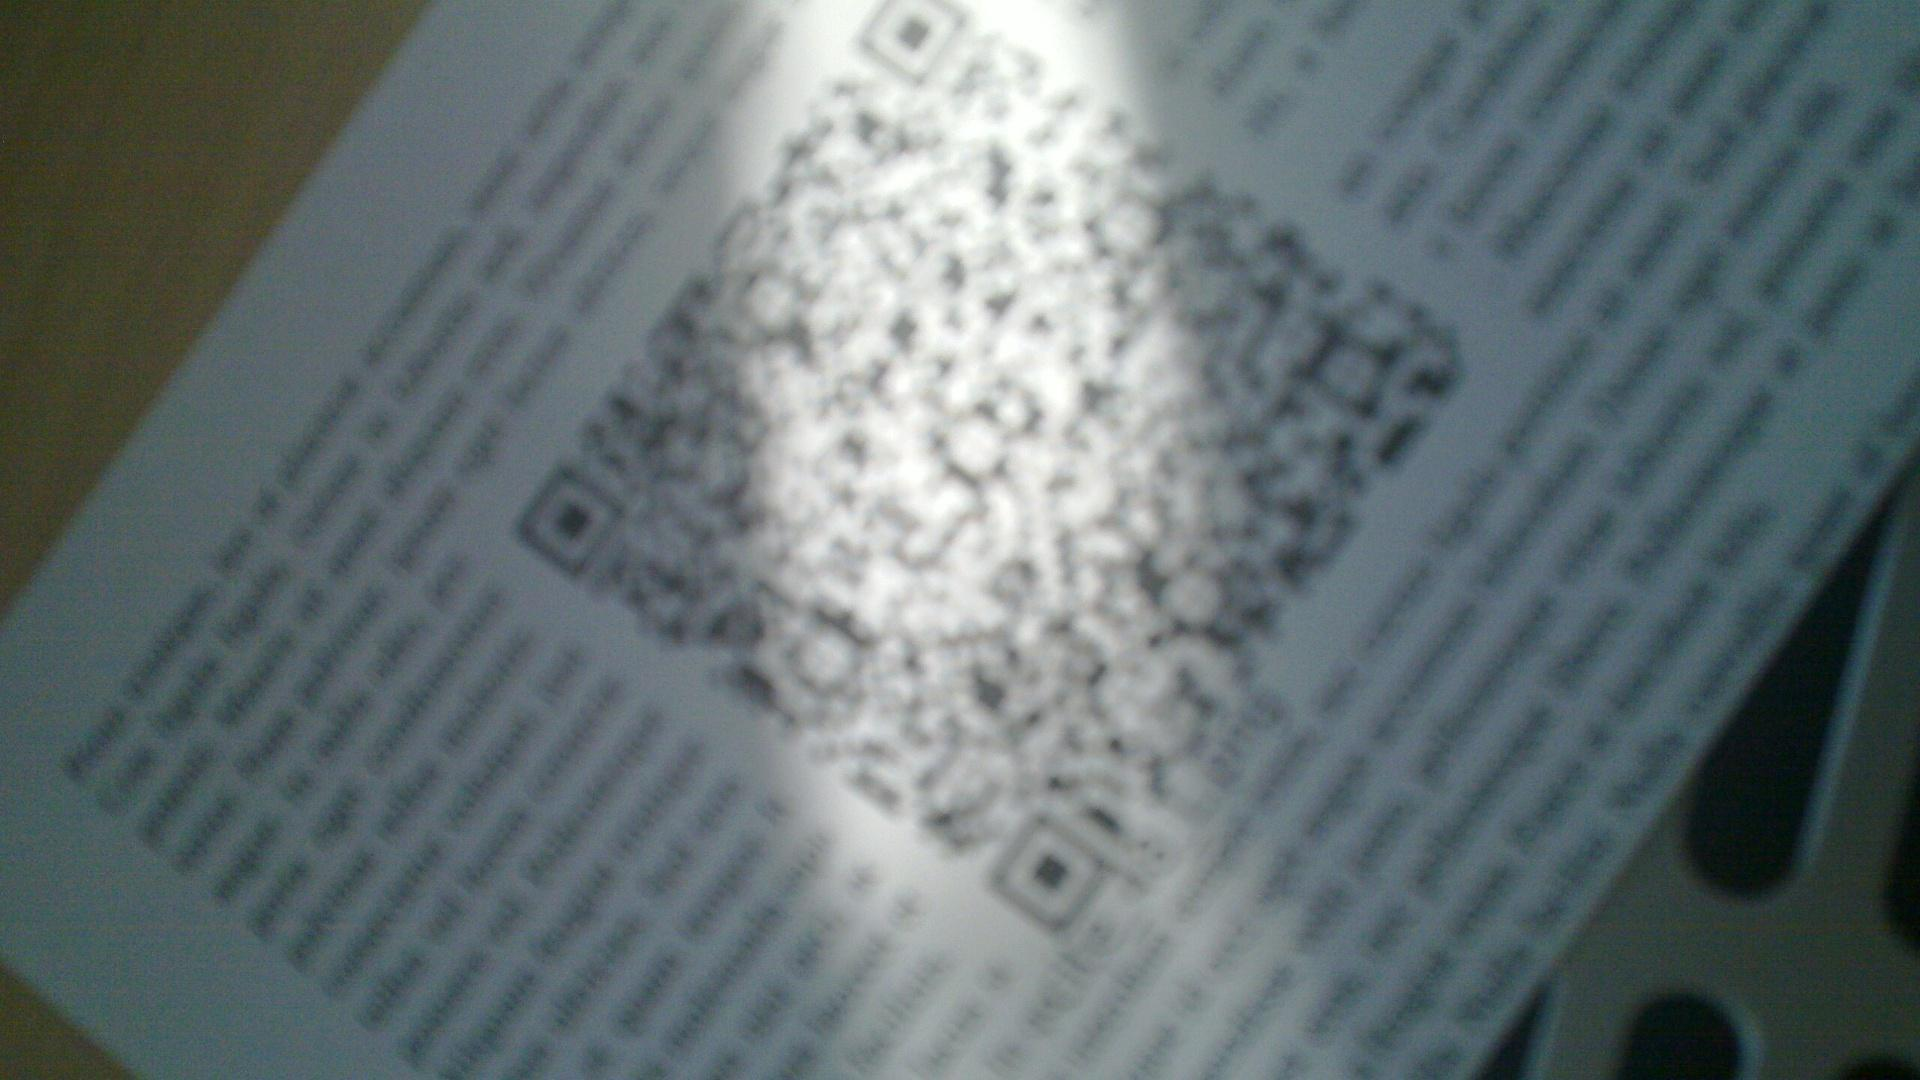qr_code: (510, 0, 1481, 940)
